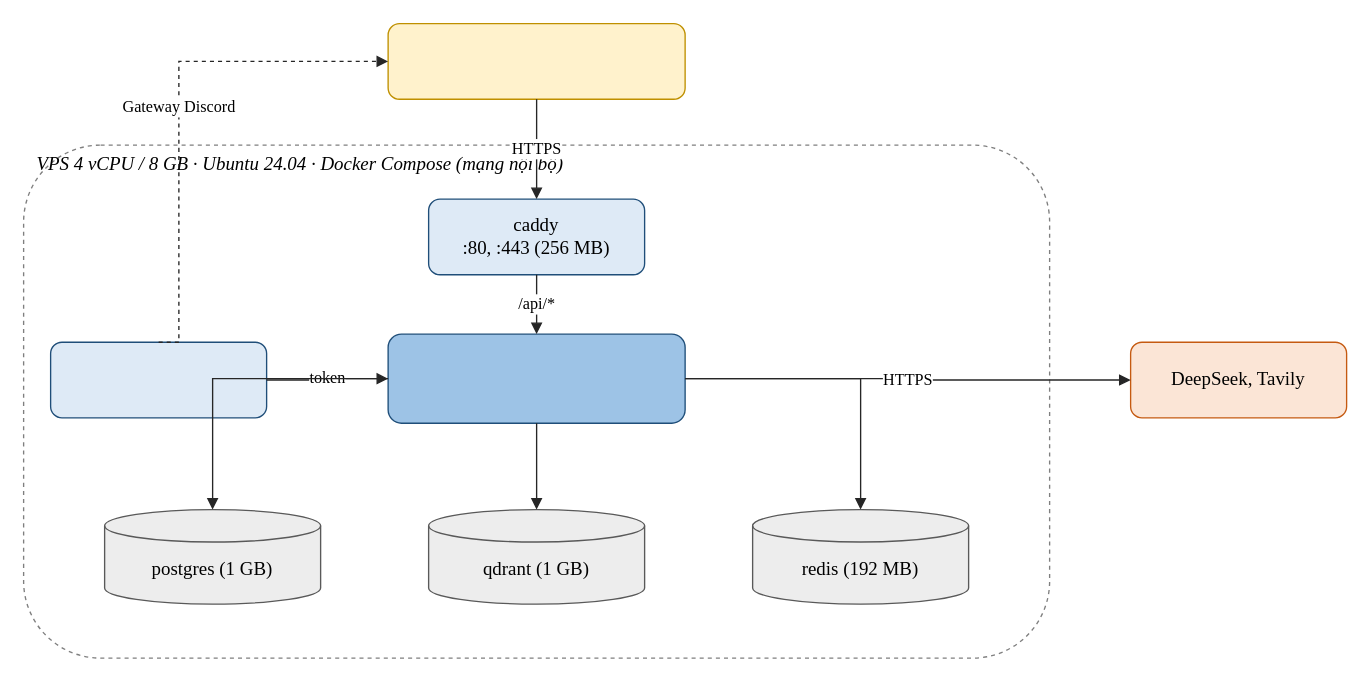
Image size: 1370x682. Some labels were removed from this diagram. The shapes that lost their labels are listed below. From the top down, each one's centre as x and y in pixels, then its label:
At pixel 536 60: "Internet (trình duyệt, Discord)".
At pixel 158 379: "bot · discord.js (192 MB)".
At pixel 536 378: "api · FastAPI + Agent E5, MiniLM ONNX (3 GB)".
